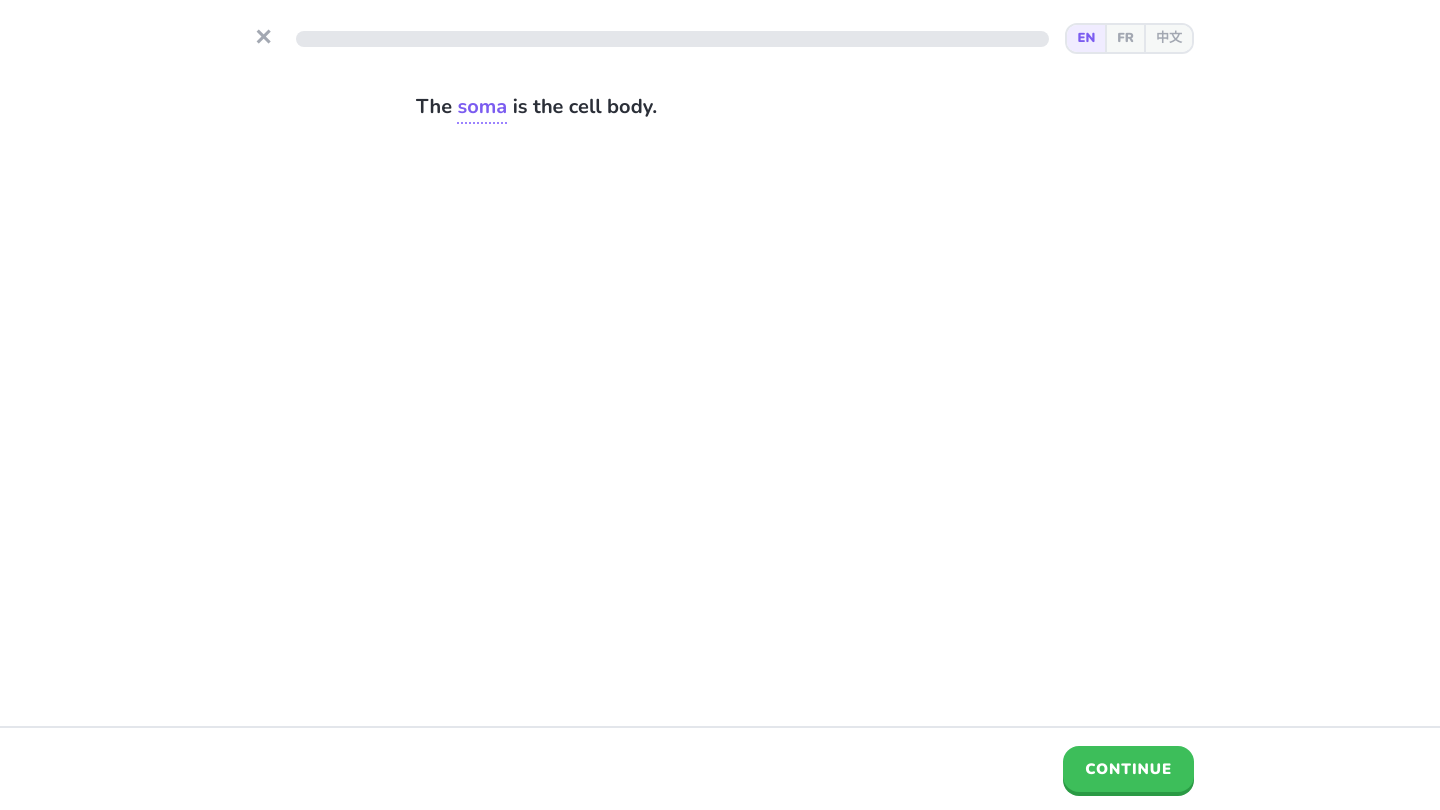
Test case: bite play-through › wrong answers re-queue, every kind can be solved, and the lesson completes
Later steps or results of the test are not shown.
Click the button "Continue". click: (1129,769)
box: [1063,746,1194,792]
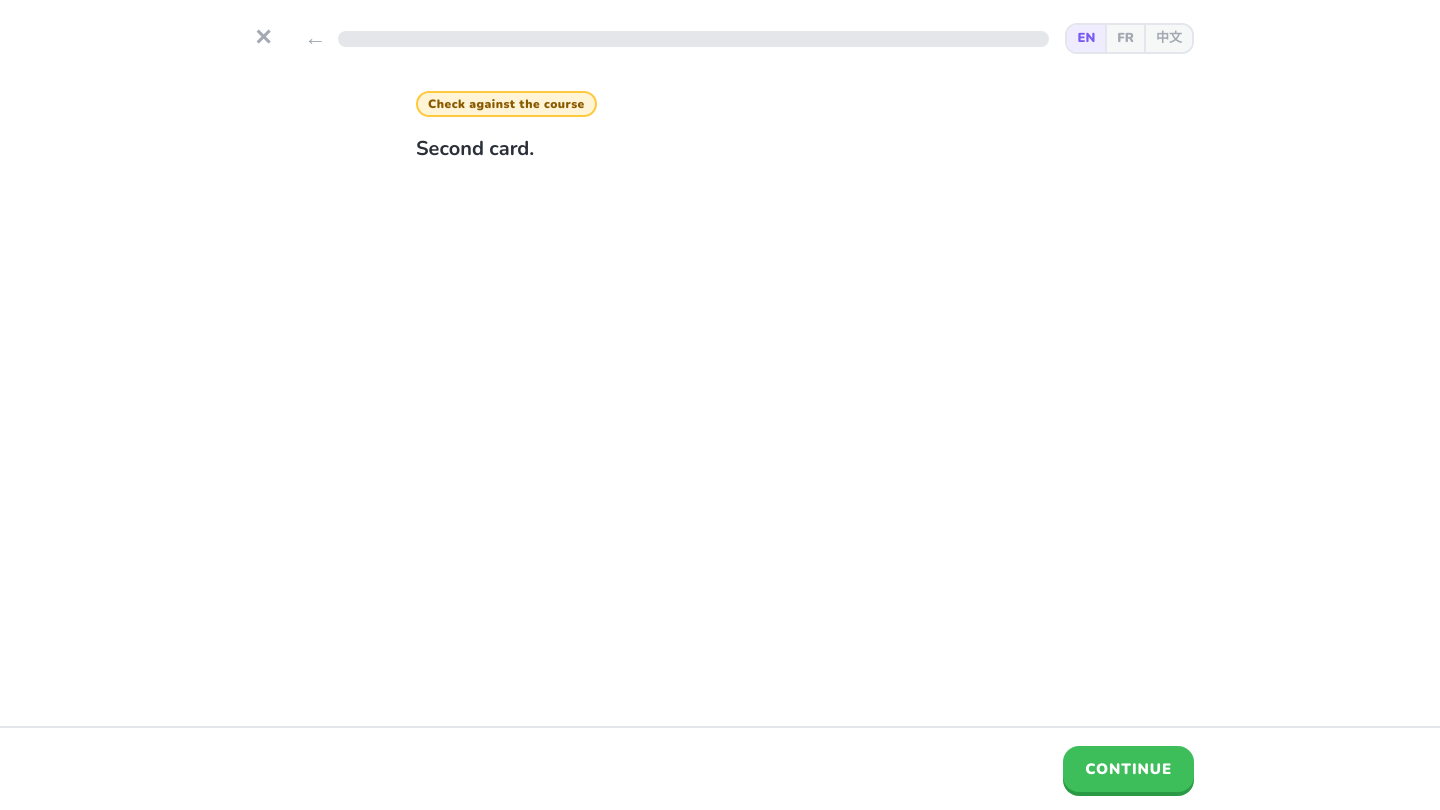
Check: the text "Check against the course" is shown, box [416,91,597,117]
Click the button "Continue". click: (1129,769)
box: [1063,746,1194,792]
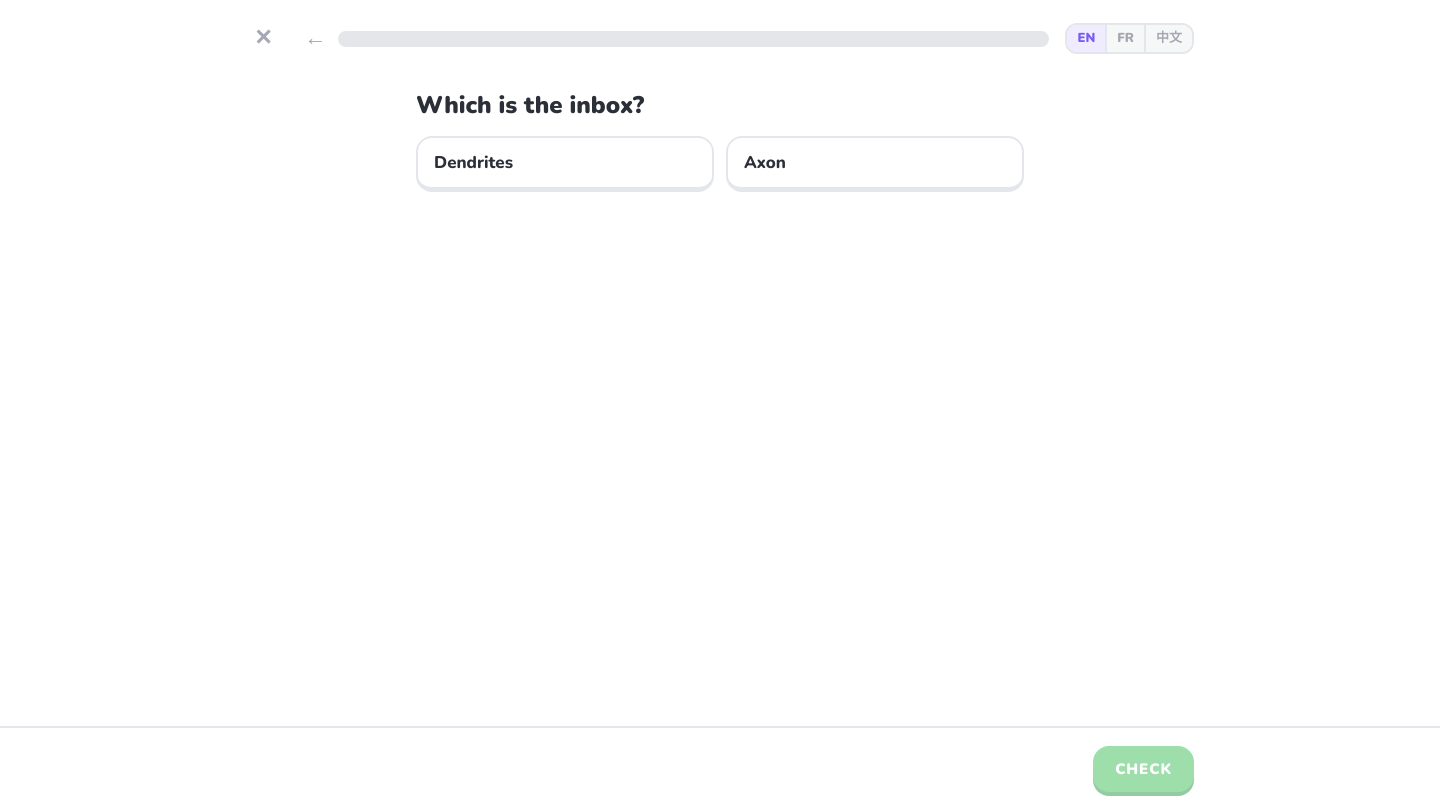
Click the button "Axon". click: (765,162)
box: [726,136,1024,192]
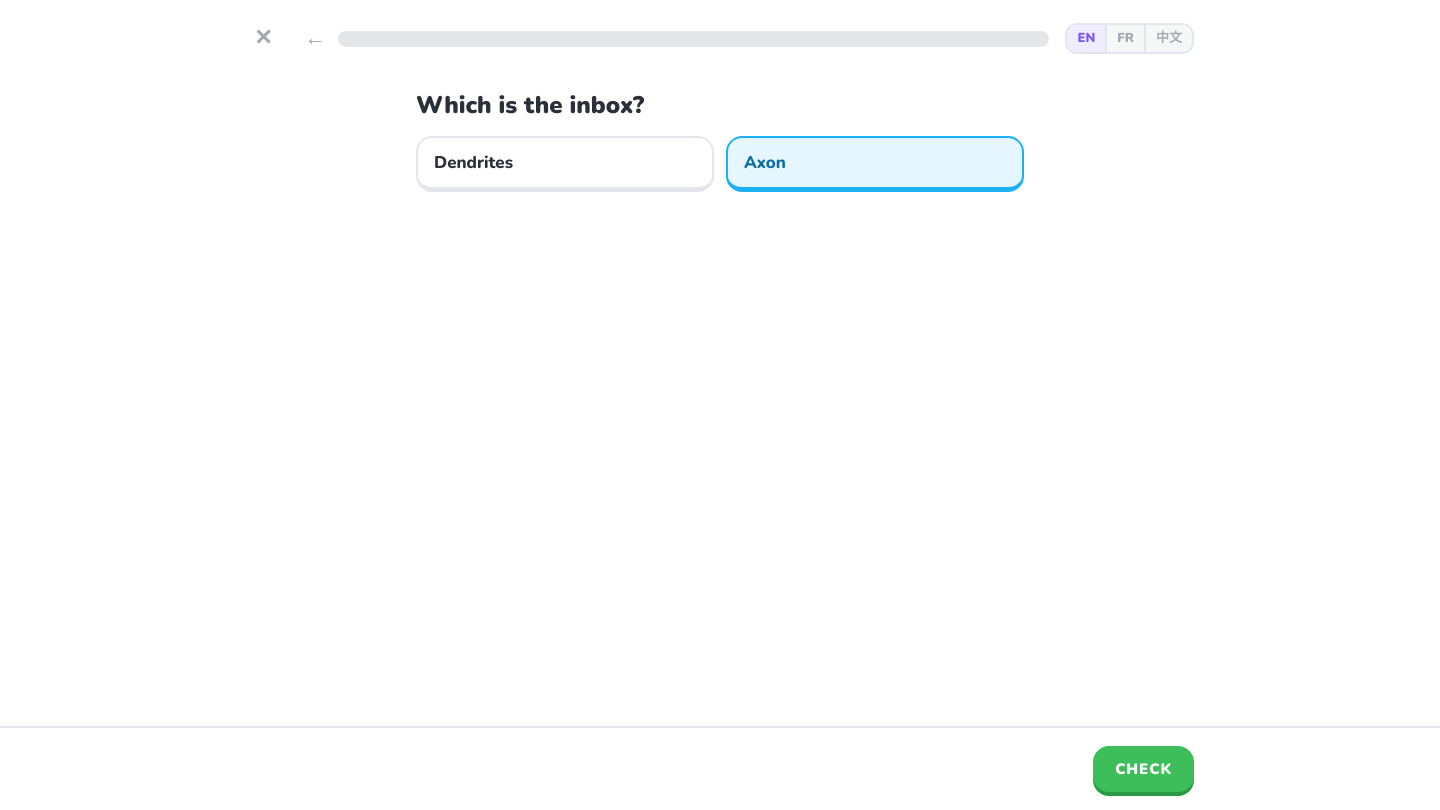
Click the button "Check". click: (1144,769)
box: [1093,746,1194,792]
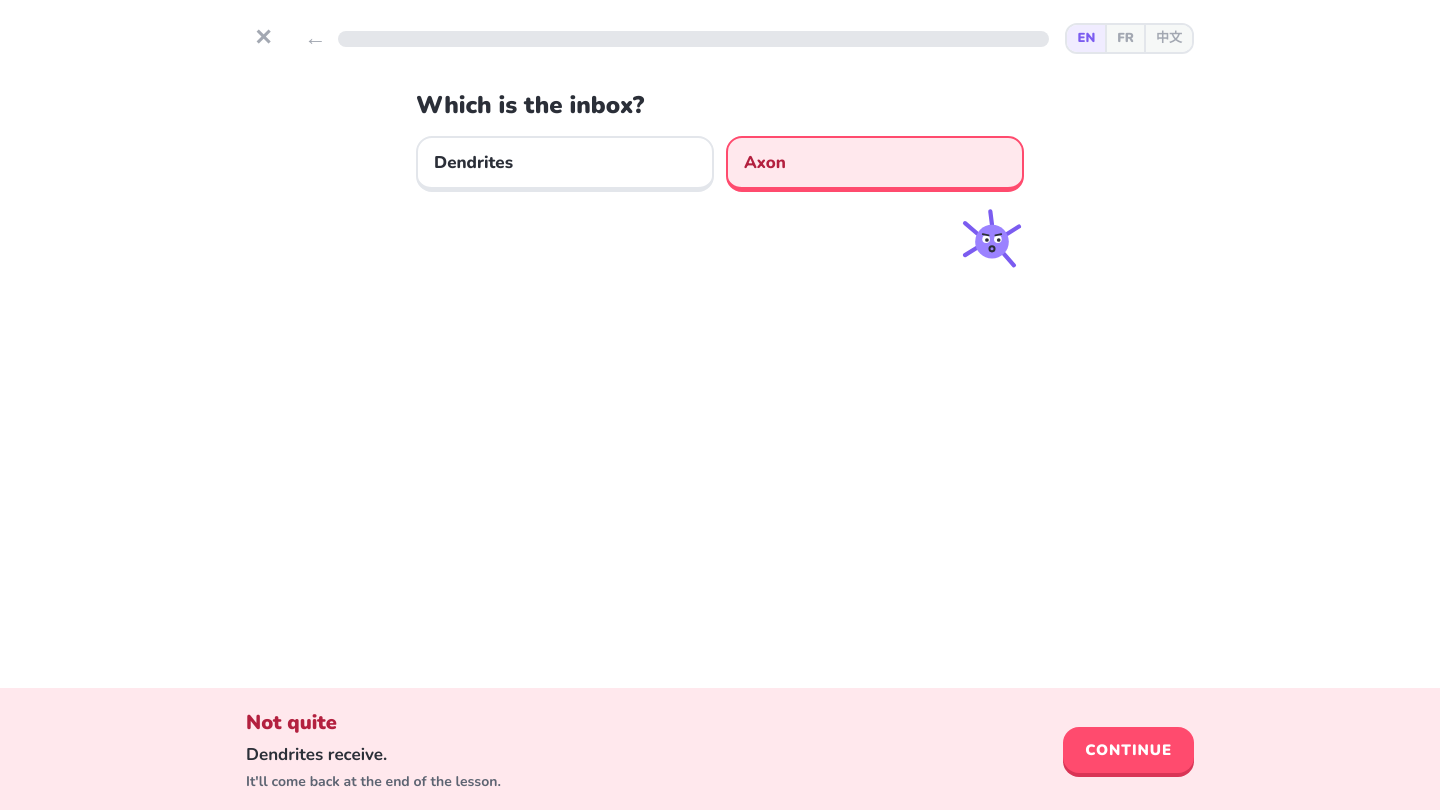
Check: the text "Dendrites receive." is shown, box [246,742,387,766]
